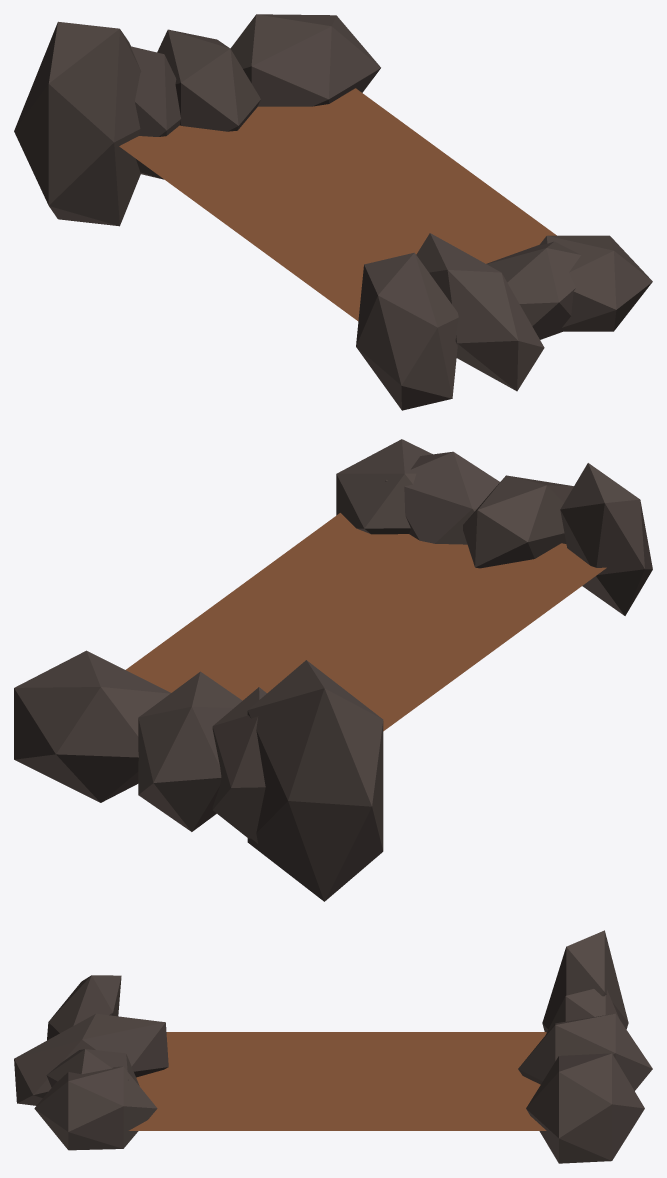
The model's file is TT_Path_Tileable.fbx.
The picture shows the model from 3 angles, top to bottom: view 1: azimuth 30°, elevation 25°; view 2: azimuth 150°, elevation 25°; view 3: azimuth 270°, elevation 25°; orthographic projection. The views are drawn at different scales.
Visible parts, largest first — view 1: Path_tileable; view 2: Path_tileable; view 3: Path_tileable.
Boxes of the visible parts, box(x1,y1,x2,y2) form: Path_tileable: box(14, 14, 652, 410); Path_tileable: box(14, 439, 652, 901); Path_tileable: box(14, 930, 652, 1163).
Bounding box in the file's own units: 75.97 × 42.13 × 144.
